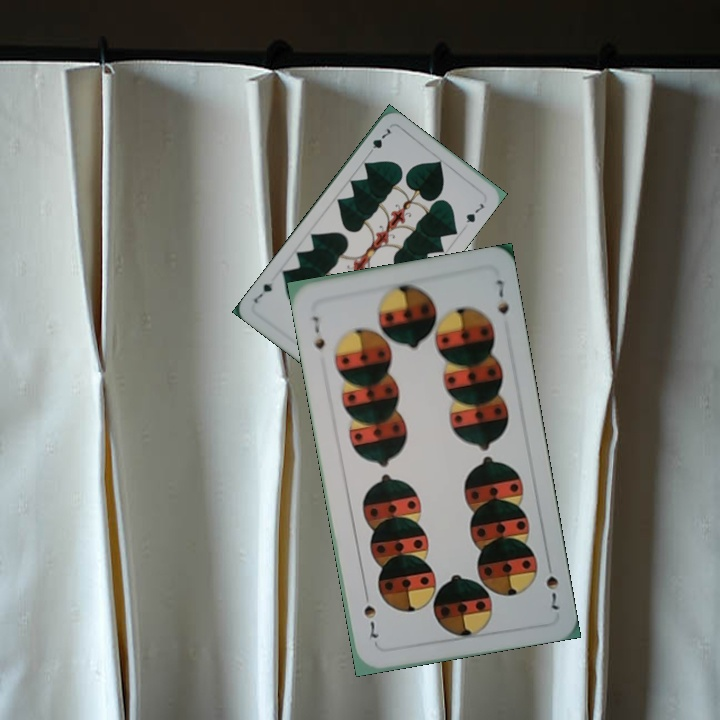G7: (363, 124, 394, 158)
S7: (541, 556, 562, 613), (308, 312, 328, 352)
